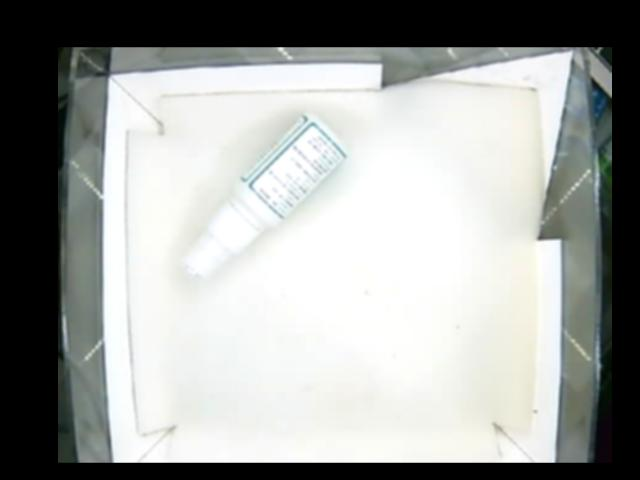Bottle: (176, 108, 347, 292)
